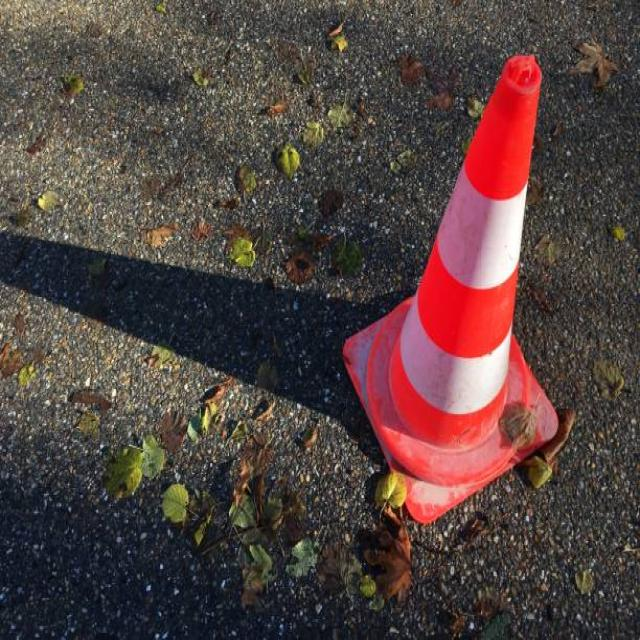Traffic Cone: (329, 21, 587, 532)
